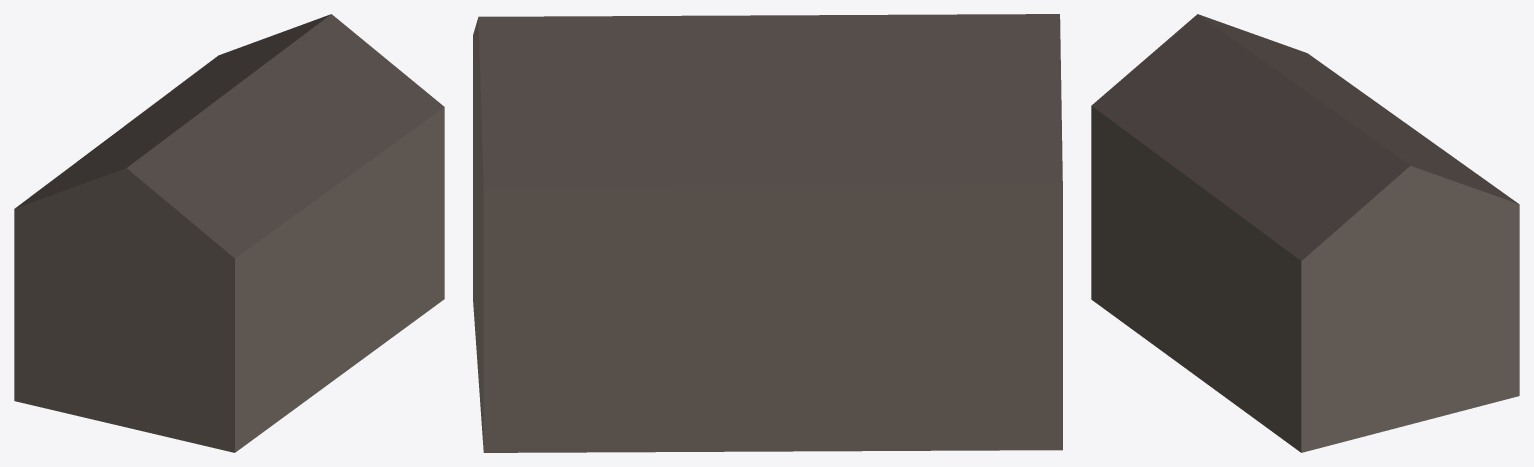
3 views of the same model, side by side, from view 1: azimuth 30°, elevation 25°; view 2: azimuth 150°, elevation 25°; view 3: azimuth 270°, elevation 25° (orthographic). The views are drawn at different scales.
Parts seen in each view (by area): view 1: HP-w783664797; view 2: HP-w783664797; view 3: HP-w783664797.
Part boxes in pixels (x1,y1,x2,y2): HP-w783664797: (14,14,444,452); HP-w783664797: (473,14,1062,452); HP-w783664797: (1091,14,1519,452).
Size of the model in its own units: 13.96 by 8.1 by 12.14.
